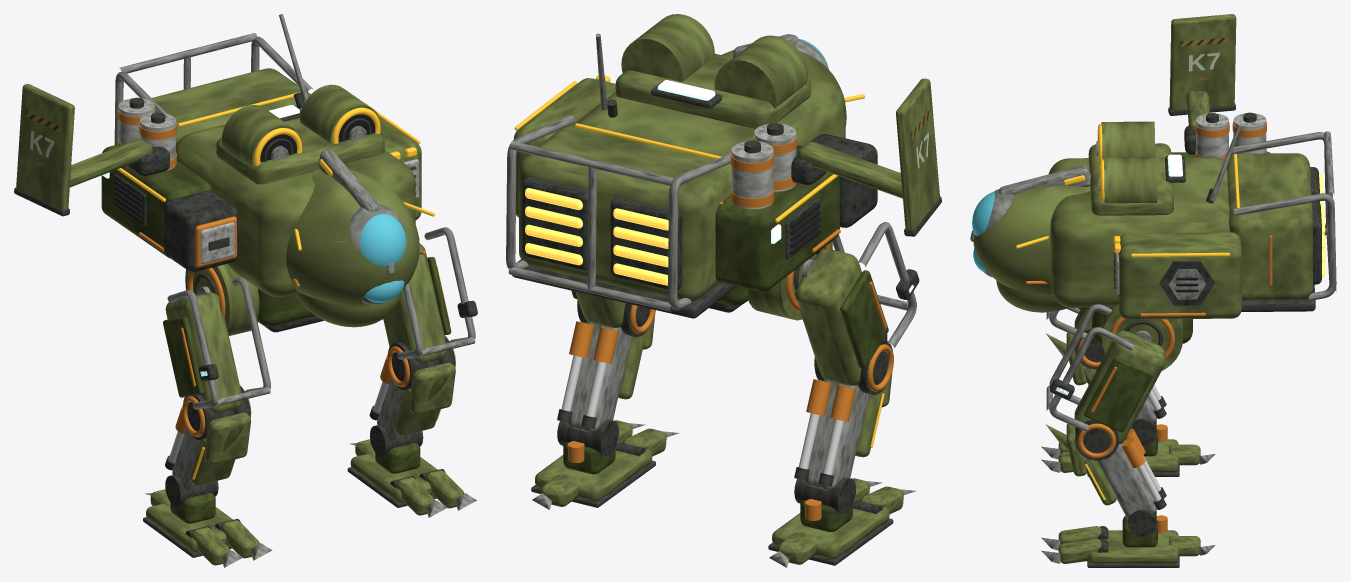
File: walker_k7.glb
3 views of the same model, side by side, from view 1: azimuth 30°, elevation 25°; view 2: azimuth 150°, elevation 25°; view 3: azimuth 270°, elevation 25° (orthographic). The views are drawn at different scales.
Parts seen in each view (by area): view 1: body, hull, nose, thigh (×2), fin, hip_R, engine, knee_L, knee_R, ankle_L, ankle_R, intake (×2) (+7 smaller); view 2: body, engine, intake (×2), hull, thigh (×2), shin (×2), ankle_L, ankle_R, knee_R, engine_vent (×8), hip_R, foot (×2) (+4 smaller); view 3: body, hull, engine, nose, hip_L, fin, intake (×2), ankle_L, knee_L, foot (×2), thigh, ankle_R (+6 smaller).
Boxes of the visible parts, x1=… form: body: x1=14, y1=14, x2=434, y2=304; hull: x1=176, y1=106, x2=415, y2=297; nose: x1=286, y1=169, x2=419, y2=306; thigh (×2): x1=165, y1=244, x2=447, y2=412; fin: x1=16, y1=84, x2=74, y2=209; hip_R: x1=163, y1=277, x2=270, y2=409; engine: x1=152, y1=68, x2=310, y2=143; knee_L: x1=369, y1=335, x2=455, y2=435; knee_R: x1=165, y1=385, x2=251, y2=485; ankle_L: x1=347, y1=425, x2=476, y2=517; ankle_R: x1=143, y1=474, x2=272, y2=567; intake (×2): x1=222, y1=84, x2=381, y2=167; body: x1=506, y1=33, x2=941, y2=318; engine: x1=519, y1=125, x2=731, y2=301; intake (×2): x1=621, y1=14, x2=807, y2=108; hull: x1=574, y1=75, x2=845, y2=156; thigh (×2): x1=575, y1=249, x2=883, y2=385; shin (×2): x1=566, y1=321, x2=868, y2=490; ankle_L: x1=531, y1=419, x2=679, y2=509; ankle_R: x1=768, y1=477, x2=915, y2=567; knee_R: x1=794, y1=334, x2=893, y2=486; engine_vent (×8): x1=525, y1=188, x2=668, y2=285; hip_R: x1=832, y1=222, x2=919, y2=368; foot (×2): x1=535, y1=441, x2=889, y2=558; body: x1=970, y1=38, x2=1336, y2=319; hull: x1=1048, y1=157, x2=1230, y2=307; engine: x1=1227, y1=153, x2=1313, y2=300; nose: x1=973, y1=186, x2=1090, y2=294; hip_L: x1=1046, y1=304, x2=1153, y2=432; fin: x1=1169, y1=14, x2=1236, y2=110; intake (×2): x1=1101, y1=121, x2=1157, y2=203; ankle_L: x1=1041, y1=509, x2=1215, y2=567; knee_L: x1=1046, y1=419, x2=1166, y2=509; foot (×2): x1=1088, y1=439, x2=1178, y2=563; thigh: x1=1074, y1=330, x2=1165, y2=444; ankle_R: x1=1041, y1=418, x2=1215, y2=476.
Size of the model in its own units: 3.49 by 4.04 by 3.33.
14 materials, 6 textured.
